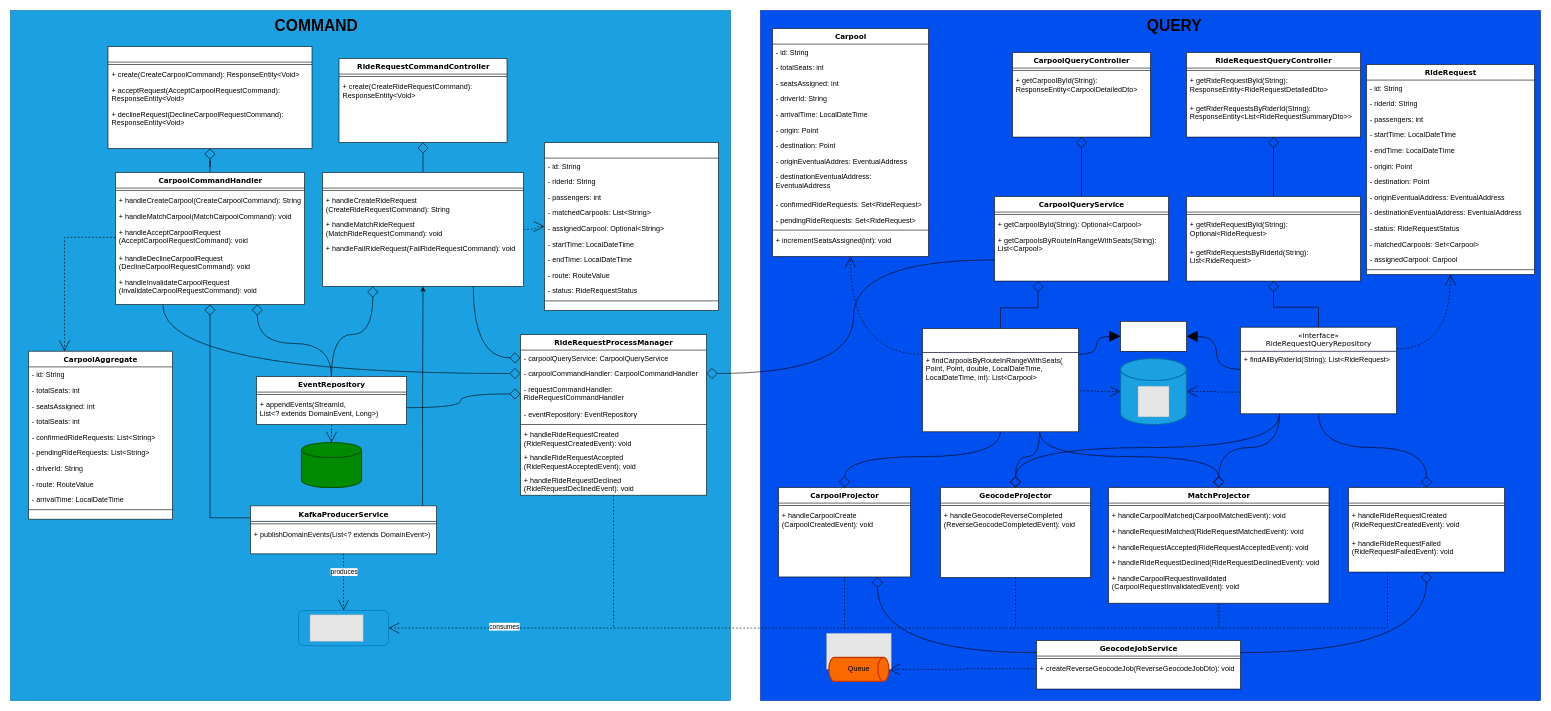
Image size: 1551x711. Some labels were removed from this diagram. Grey dashed boxes stand in for pictures. Each missing label, with the box of its shape:
CarpoolCommandController: (107, 46, 312, 148)
Kurrent.IO (FKA EventStoreDB): (301, 442, 362, 488)
RideRequestAggregate: (544, 142, 718, 310)
RideRequestCommandHandler: (322, 172, 524, 286)
RideRequestProjector: (1348, 487, 1504, 572)
RideRequestQueryService: (1186, 196, 1360, 281)
«interface» CarpoolQueryRepository: (922, 328, 1078, 432)
«interface» JpaRepository: (1120, 321, 1186, 351)
